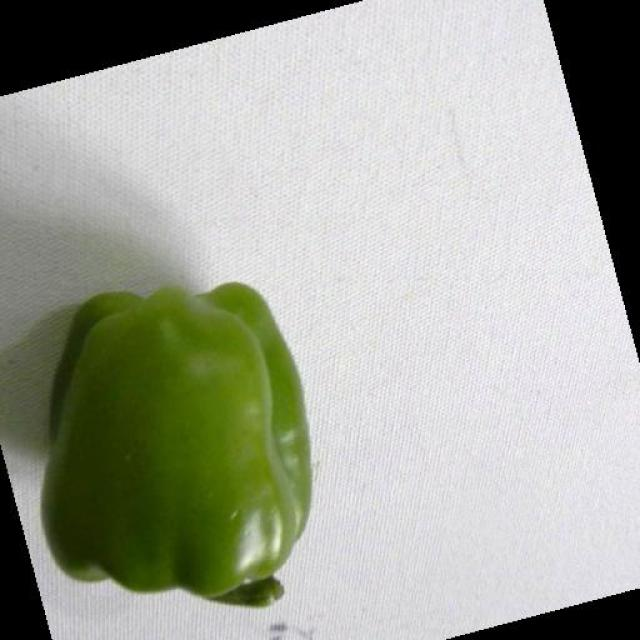Fresh_Capsicum: (46, 294, 301, 620)
